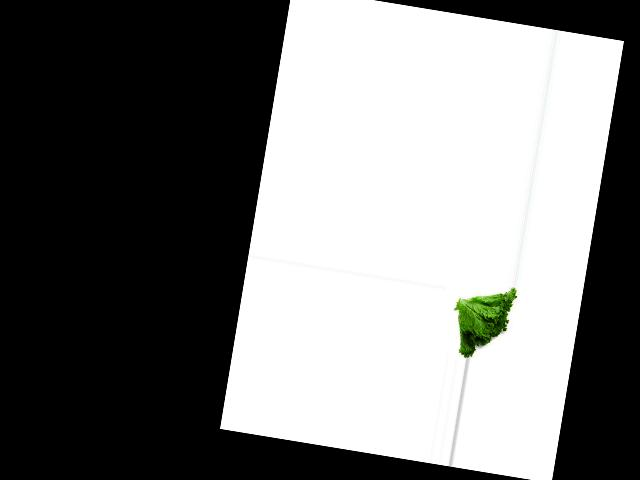lettuce: (448, 278, 519, 365)
